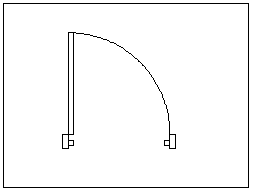door: (71, 20, 171, 137)
